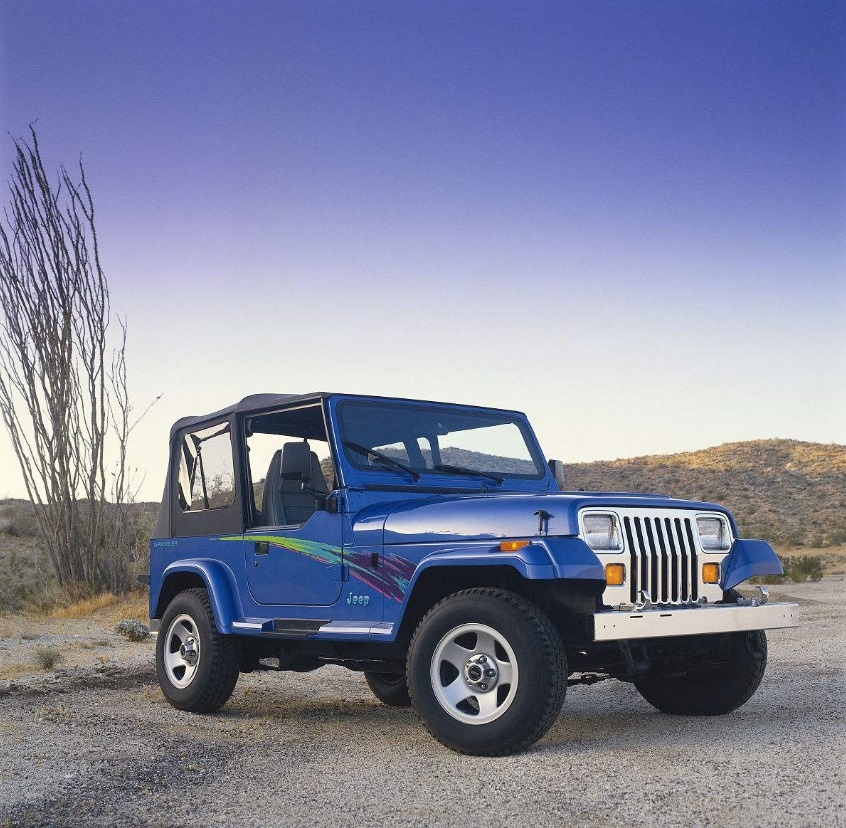jeep: (126, 371, 794, 743)
